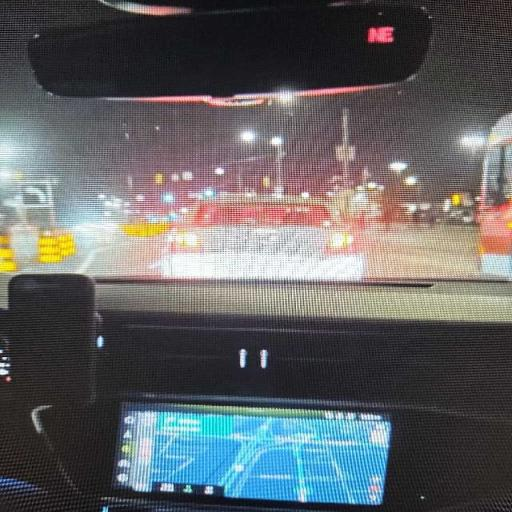car: (0, 0, 511, 511), (160, 194, 365, 281)
lane: (13, 227, 173, 277)
